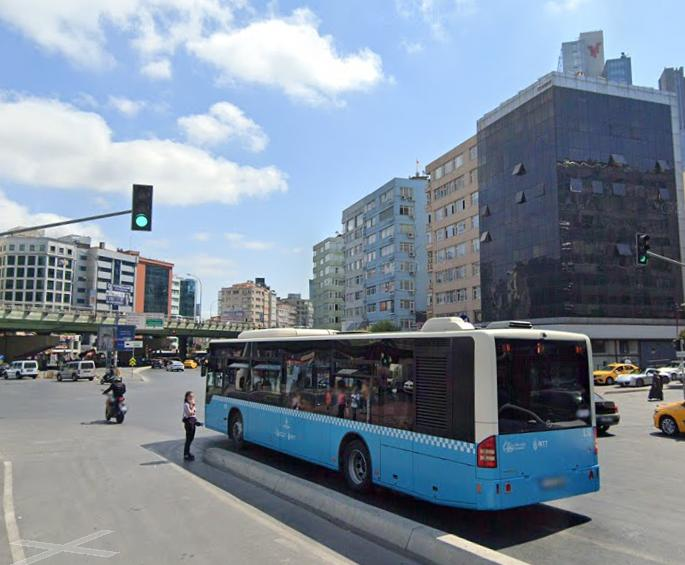greenlight: (132, 185, 152, 233), (635, 232, 649, 265)
